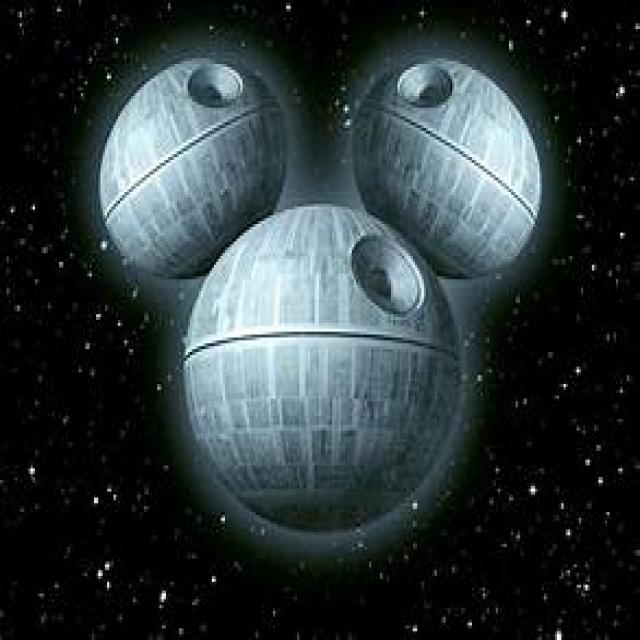deathStar: (184, 209, 462, 537), (350, 61, 544, 282), (100, 58, 284, 282)
